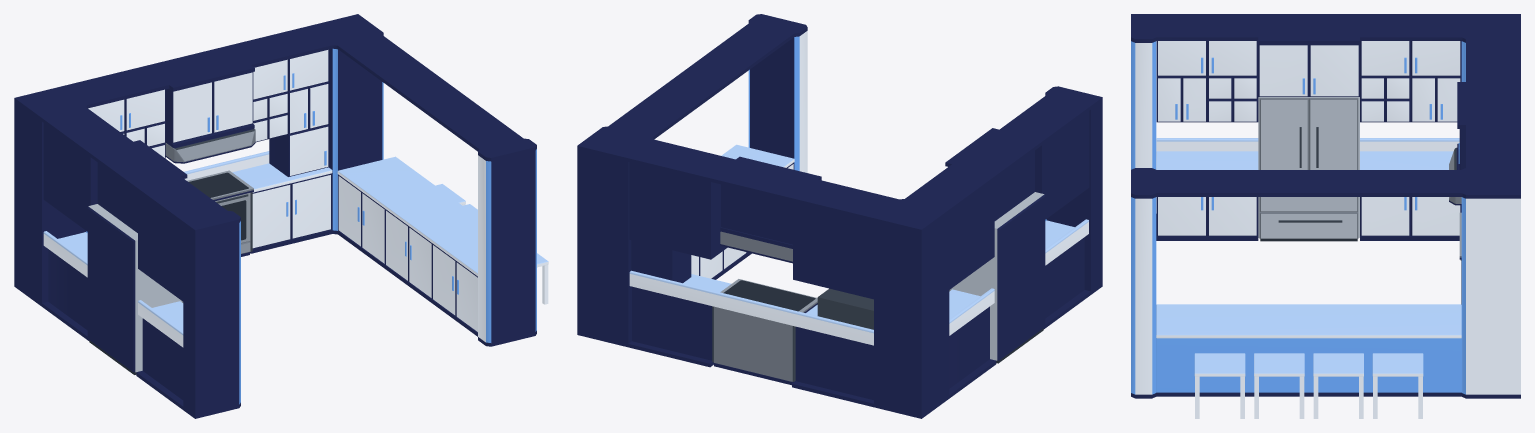
The model's file is kitchen.glb.
3 views of the same model, side by side, from view 1: azimuth 30°, elevation 25°; view 2: azimuth 150°, elevation 25°; view 3: azimuth 270°, elevation 25° (orthographic). The views are drawn at different scales.
Visible parts, largest first — view 1: kitchen_counter, Fridge, Stove, Stool; view 2: kitchen_counter, Fridge, Stove, Microwave; view 3: kitchen_counter, Fridge, Stool, Stove.
Boxes of the visible parts, x1,y1,x2,y2 form: kitchen_counter: [14, 14, 536, 418]; Fridge: [87, 204, 183, 374]; Stove: [165, 123, 255, 256]; Stool: [435, 184, 548, 304]; kitchen_counter: [577, 14, 1102, 418]; Fridge: [949, 192, 1045, 363]; Stove: [712, 227, 817, 385]; Microwave: [817, 288, 873, 329]; kitchen_counter: [1131, 14, 1520, 398]; Fridge: [1258, 97, 1359, 241]; Stool: [1194, 353, 1423, 418]; Stove: [1449, 143, 1461, 304].
Size of the model in its own units: 1.13 by 0.53 by 0.92.
Materials: 1 (1 with a texture image).
